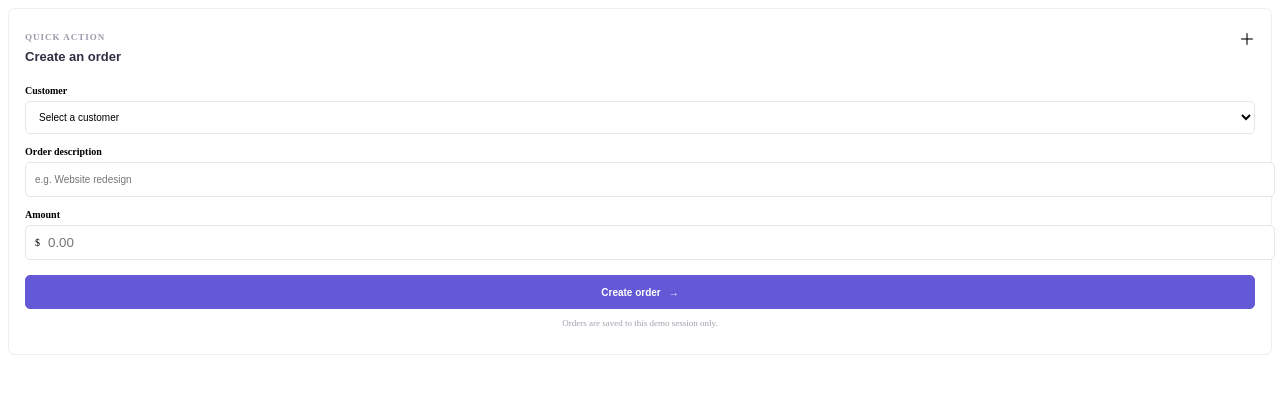
Test case: OrderForm › shows provider errors without claiming success
The width and height of the screenshot is (1280, 419).
Select "Ada · Analytical" in the dropdown labelled "Customer" at [640, 118], box [25,101,1255,134]
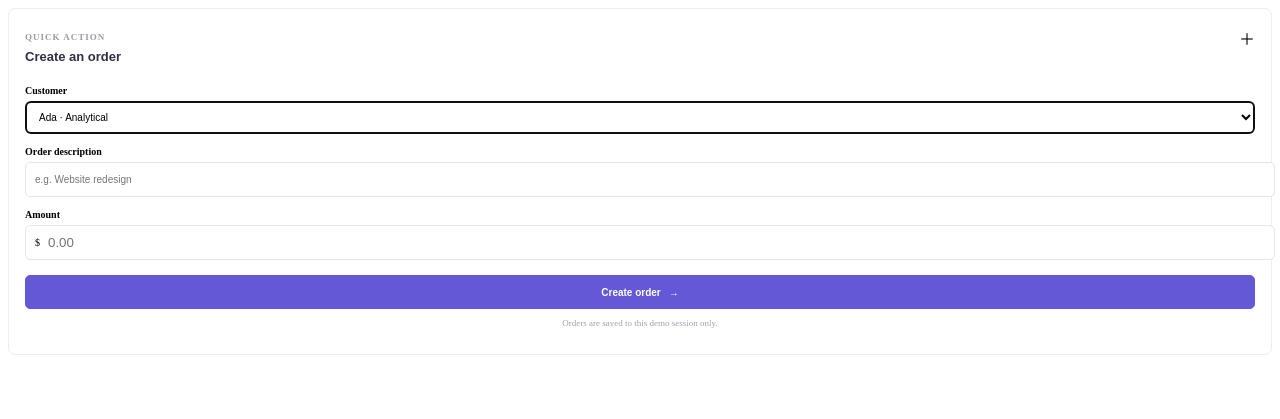
Type "Consulting" into the field labelled "Order description" at [650, 180], box [25,162,1275,197]
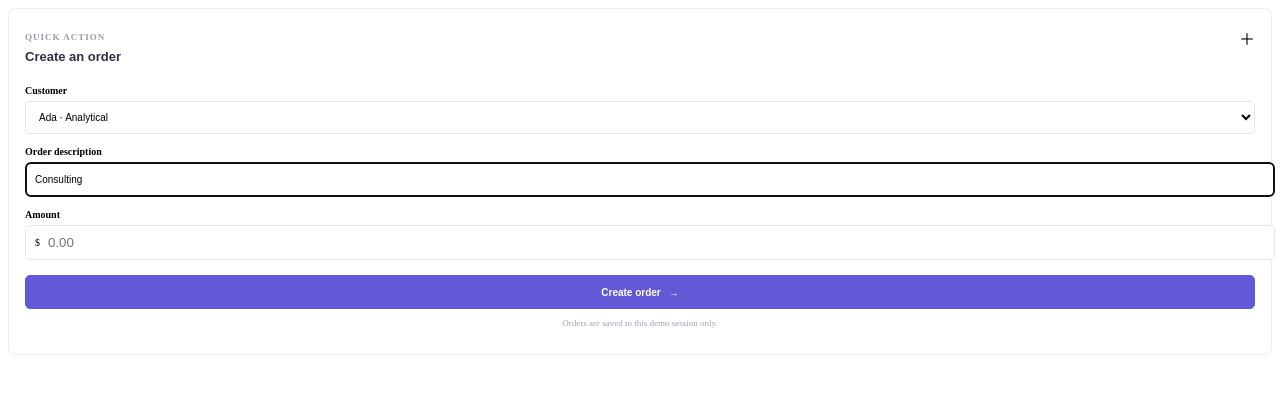
Type "50" into the field labelled "Amount" at [656, 242], box [46,234,1265,251]
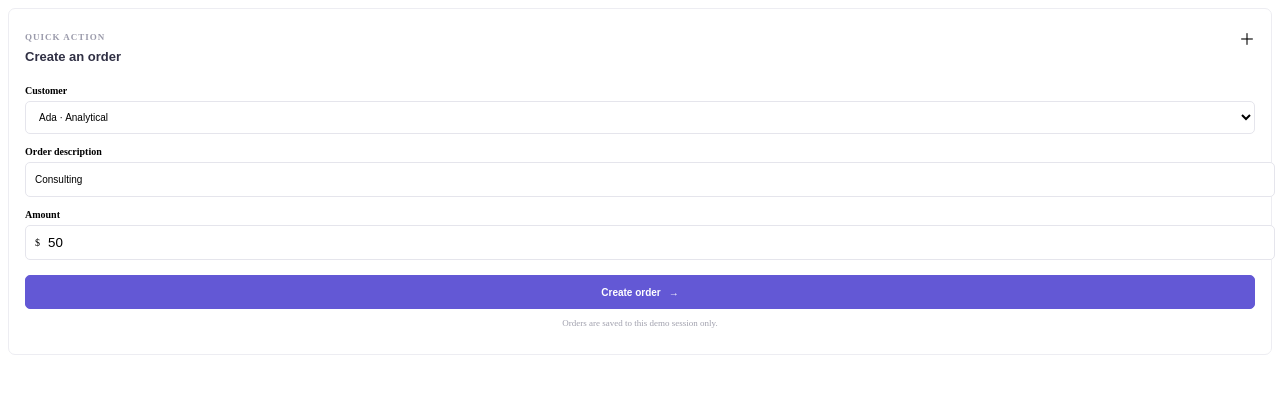
Click the button "Create order →" at [640, 292], box [25,275,1255,309]
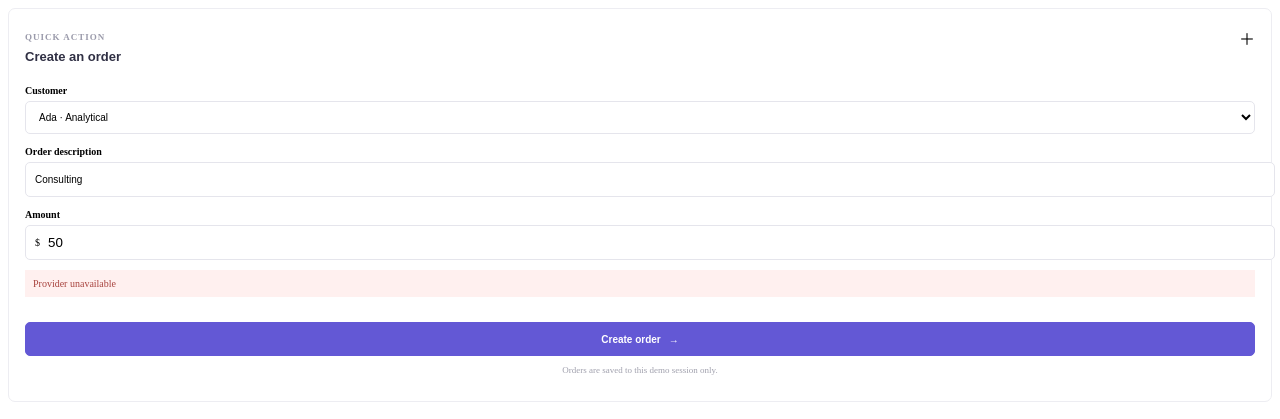
Result: the text "Provider unavailable" is shown at [25,270,1255,297]
